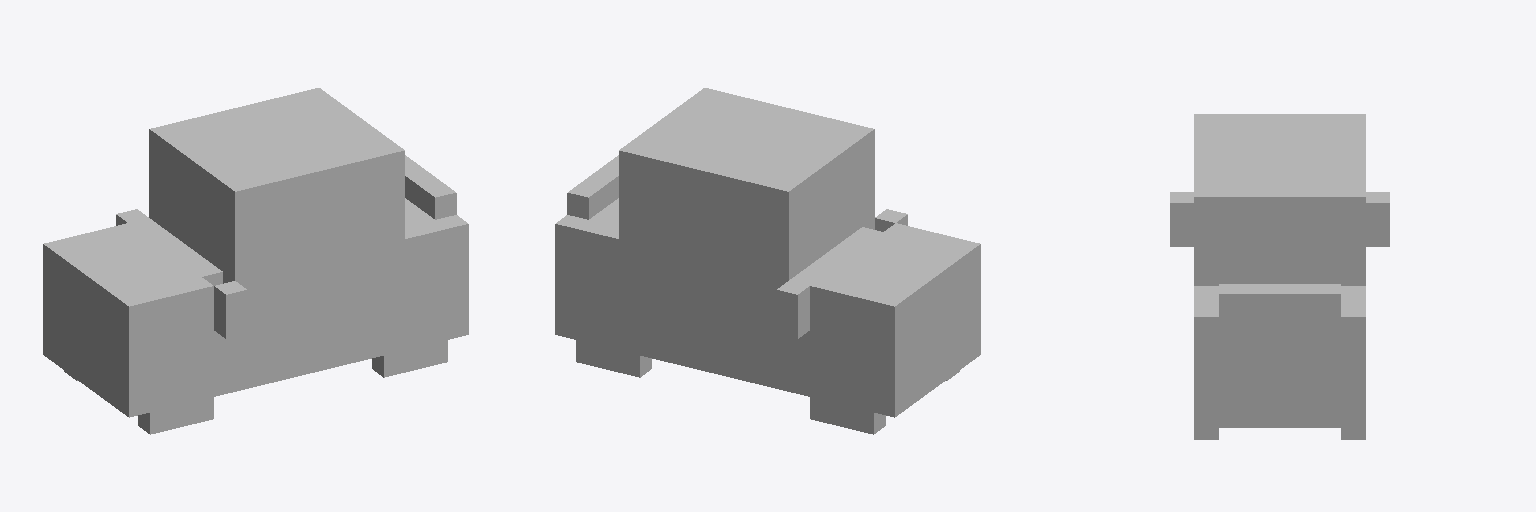
File: car1.obj
The picture shows the model from 3 angles: view 1: azimuth 30°, elevation 25°; view 2: azimuth 150°, elevation 25°; view 3: azimuth 270°, elevation 25°; orthographic projection.
Visible parts, largest first — view 1: object 1; view 2: object 1; view 3: object 1.
Boxes of the visible parts, x1=… form: object 1: x1=43, y1=88, x2=468, y2=434; object 1: x1=555, y1=88, x2=980, y2=434; object 1: x1=1170, y1=114, x2=1389, y2=439.
Bounding box in the file's own units: 1.6 × 1 × 0.9.